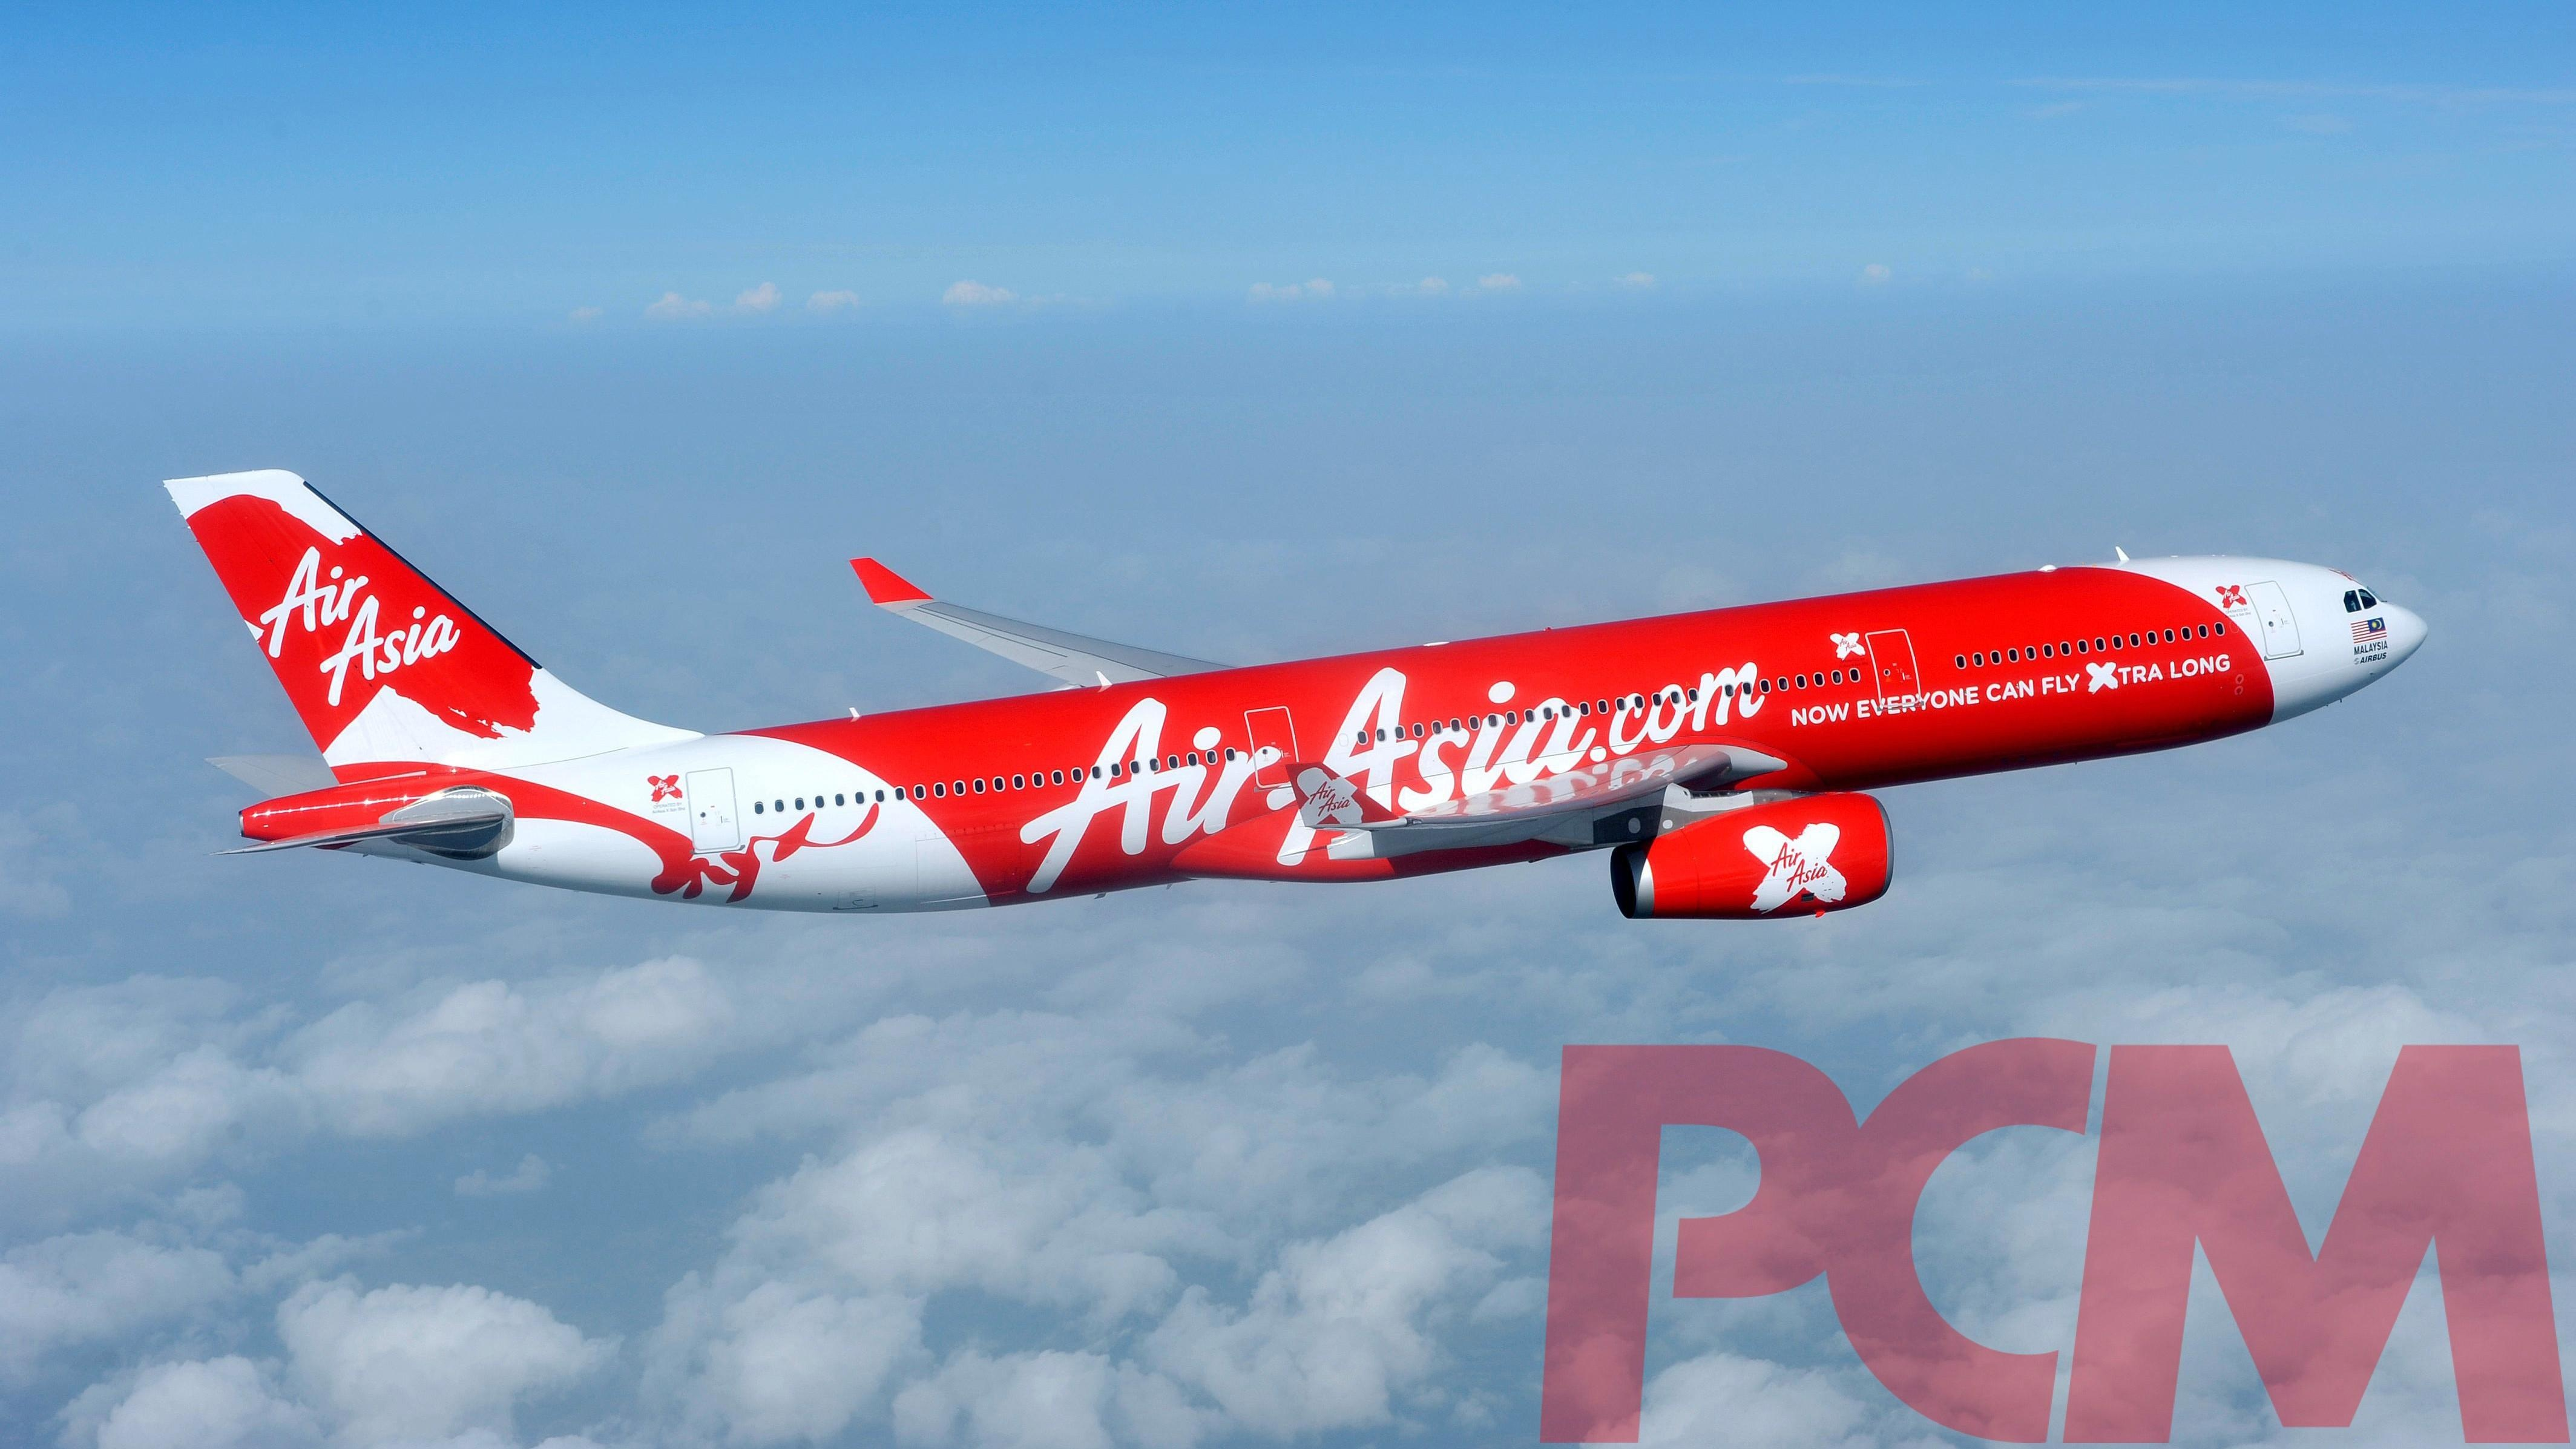airplane: (161, 396, 2427, 968)
